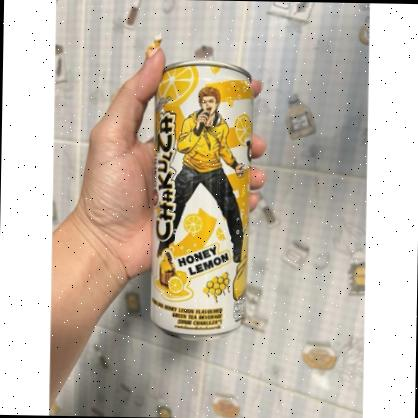can: (147, 58, 252, 338)
